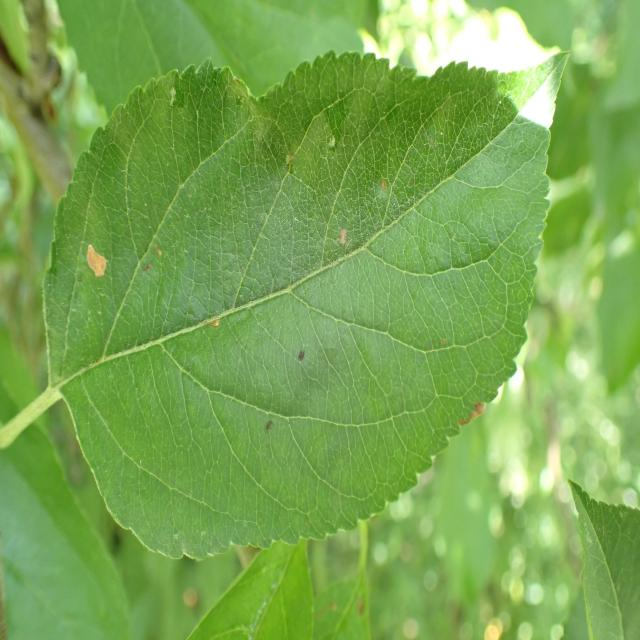Black Rot: (66, 221, 124, 303)
